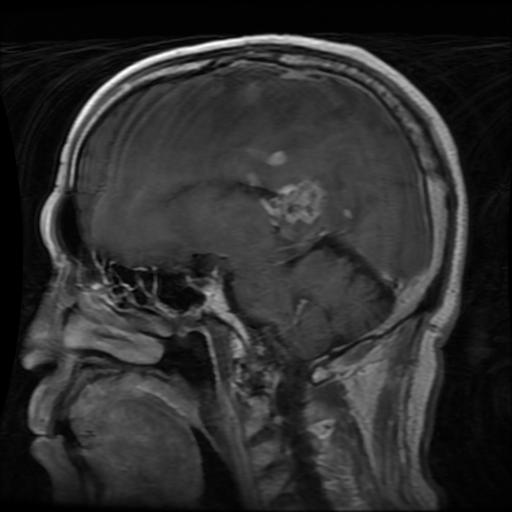Gliomia_tumour: (235, 142, 324, 226)
